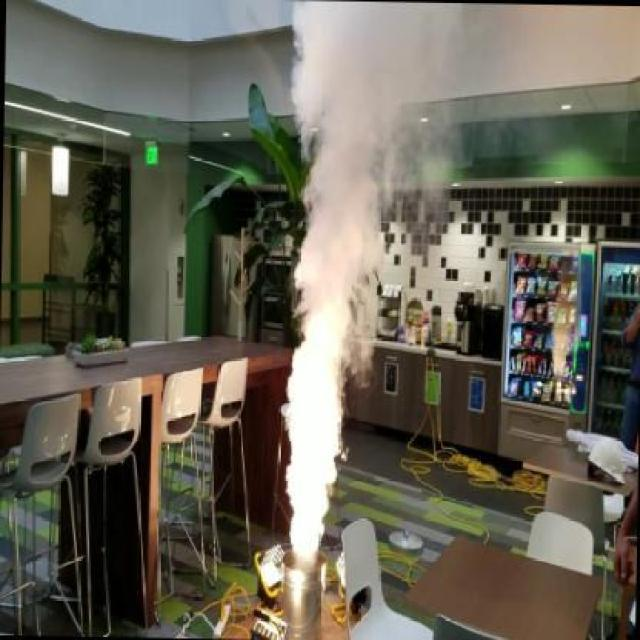fire: (288, 0, 470, 305), (279, 304, 352, 550)
